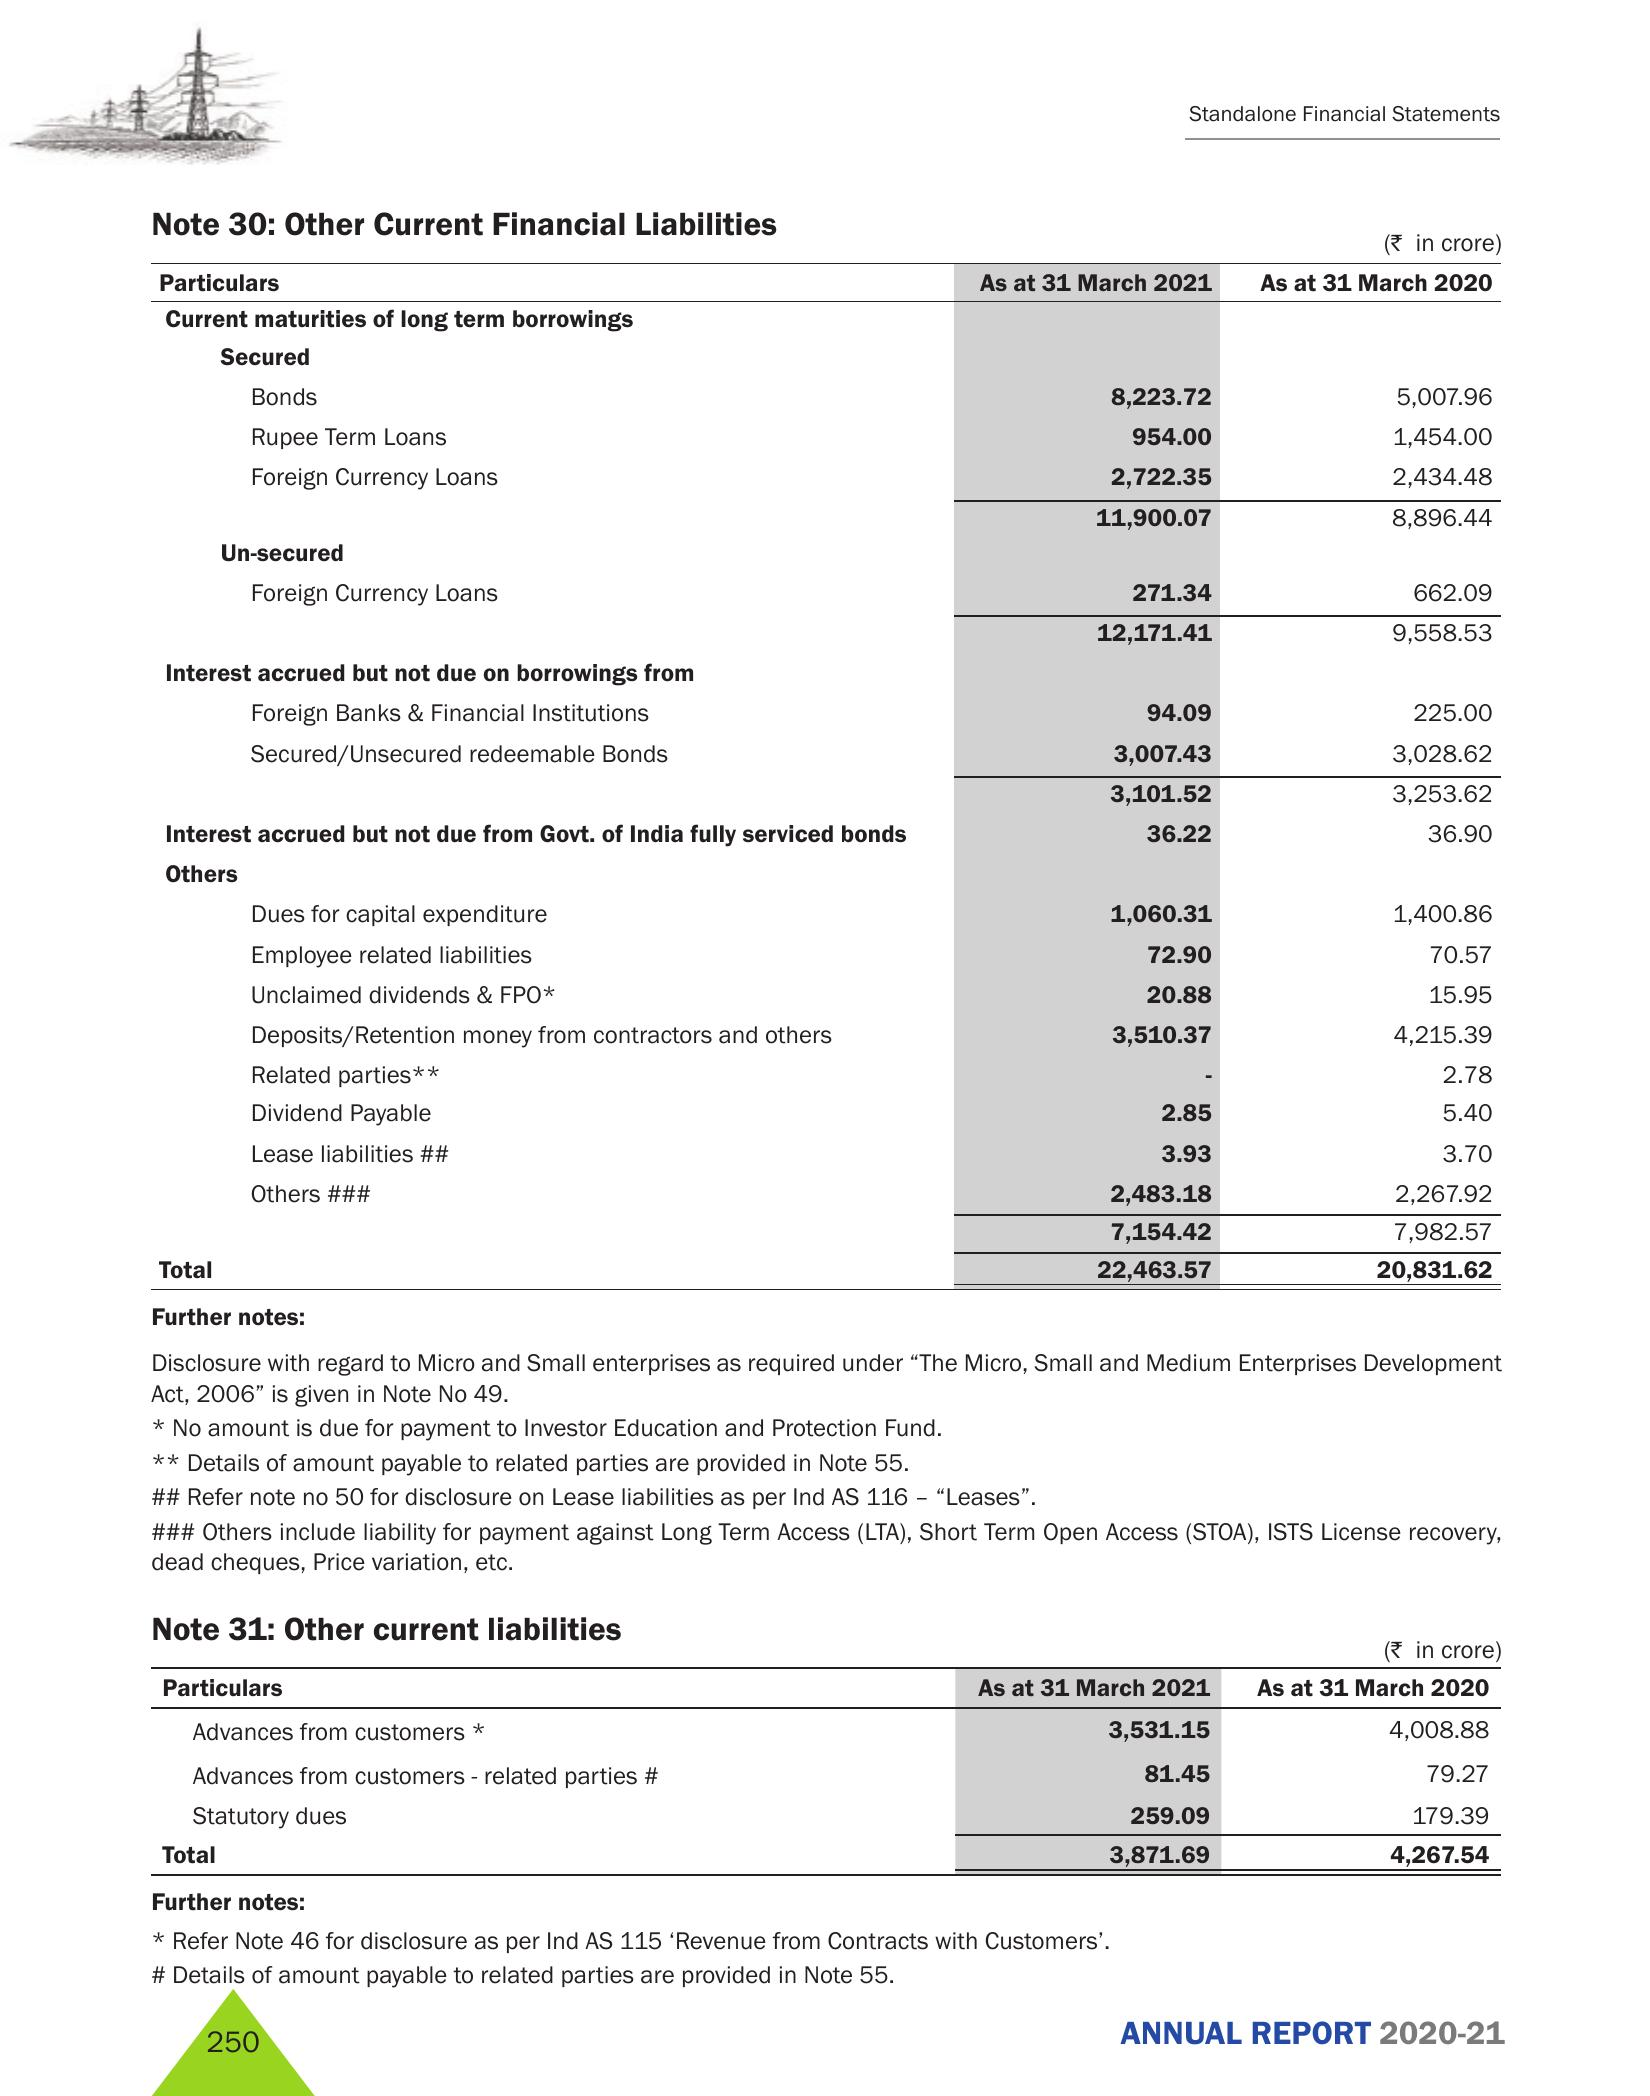Footer: (0, 1982, 1650, 2096)
Header: (0, 0, 1650, 180)
Table: (94, 260, 1536, 1291), (70, 1662, 1511, 1875)
